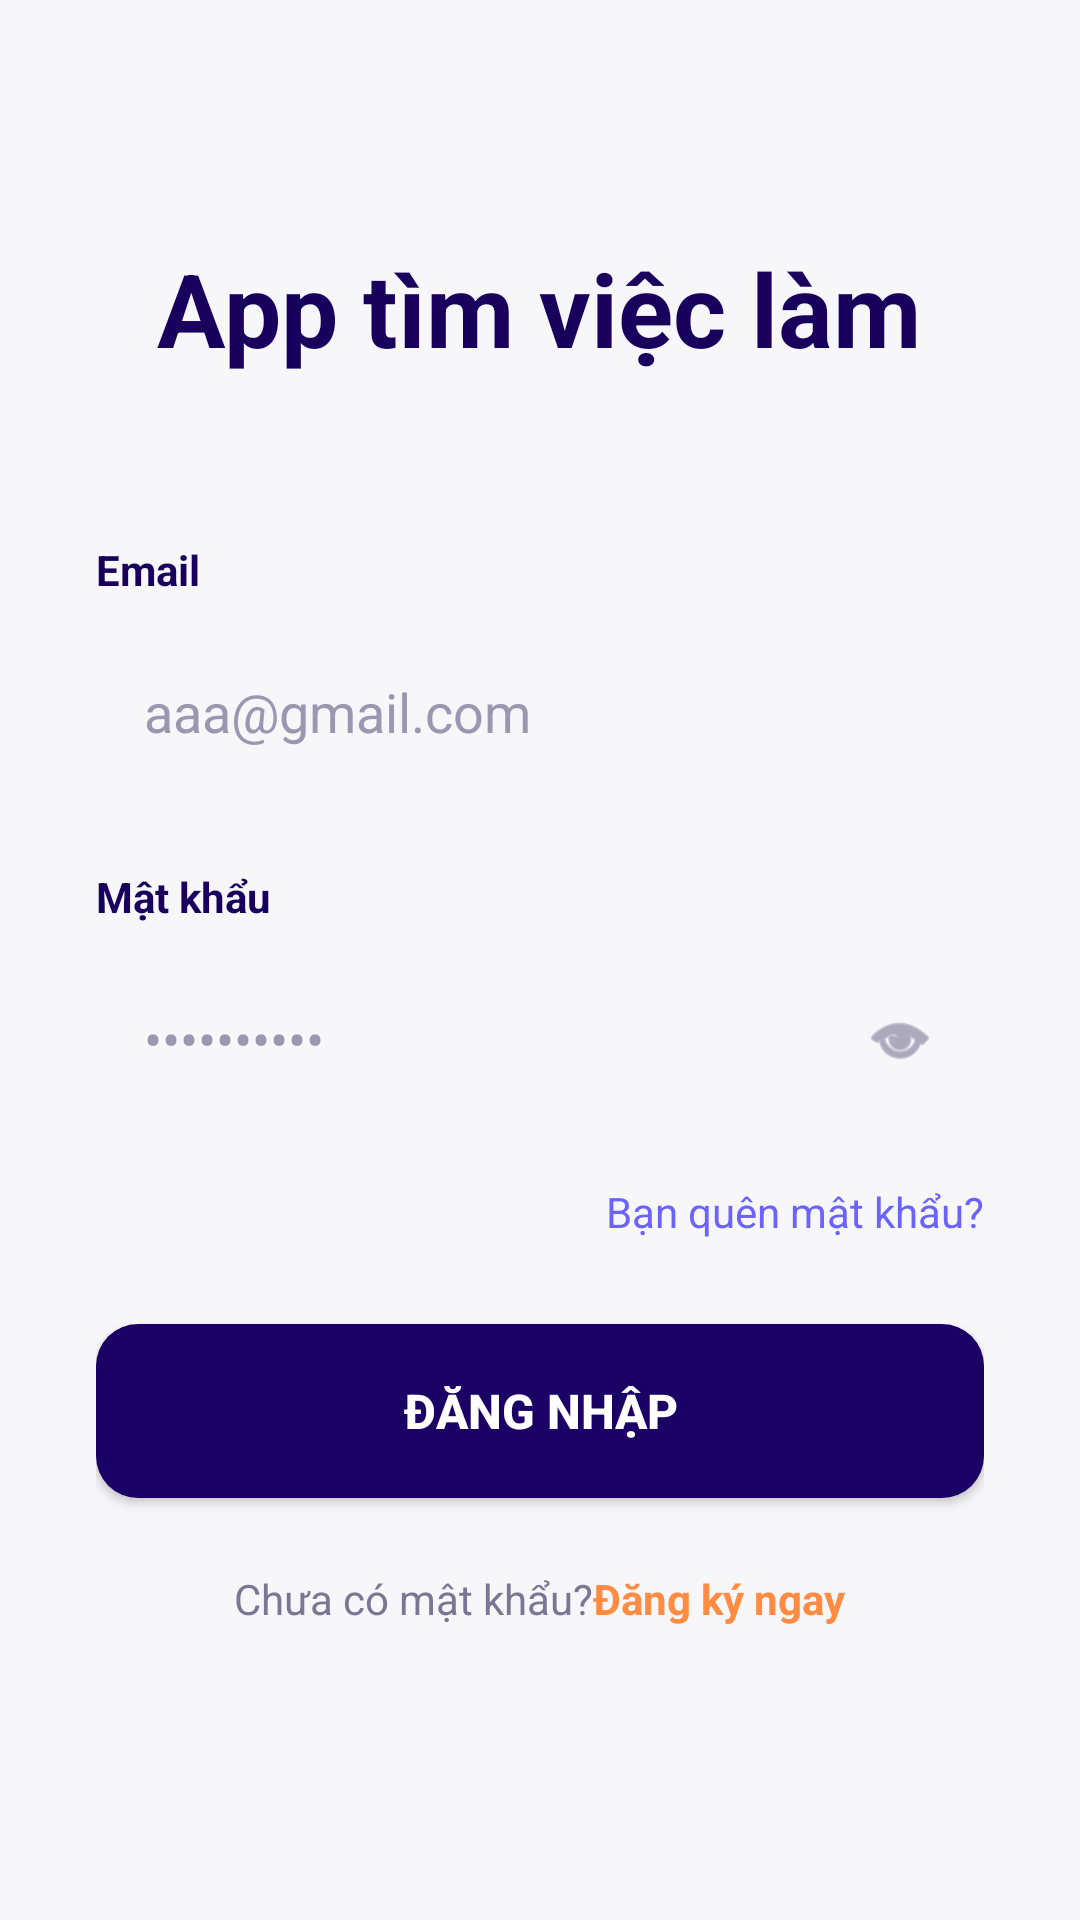

Named icons in this screenshot (1080x1920) and their centers, point (x, y):
view: point (900, 1041)
